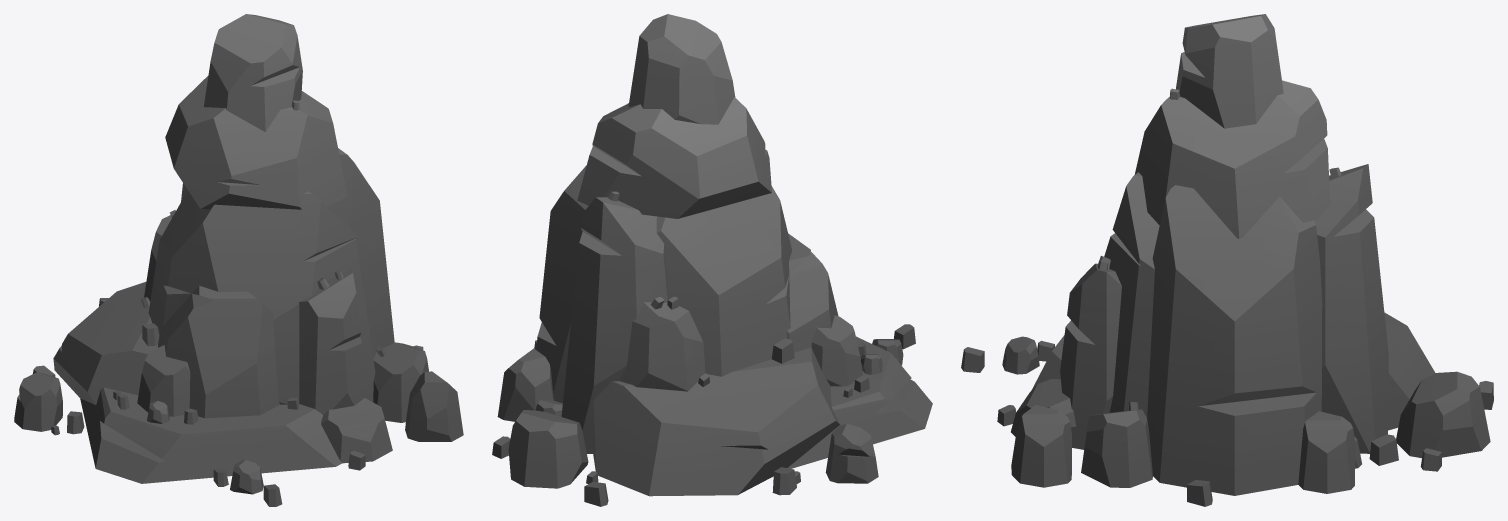
Rendered from BigRock_02.fbx.
3 renders of one model, left to right at view 1: azimuth 30°, elevation 25°; view 2: azimuth 150°, elevation 25°; view 3: azimuth 270°, elevation 25°, orthographic. The views are drawn at different scales.
Visible parts, largest first — view 1: big_rock_01; view 2: big_rock_01; view 3: big_rock_01.
Boxes of the visible parts, left/top/right/bottom form: big_rock_01: left=14, top=14, right=463, bottom=506; big_rock_01: left=492, top=14, right=932, bottom=506; big_rock_01: left=961, top=14, right=1493, bottom=506.
Size of the model in its own units: 463 by 445 by 523.
Materials: 1 (1 with a texture image).
